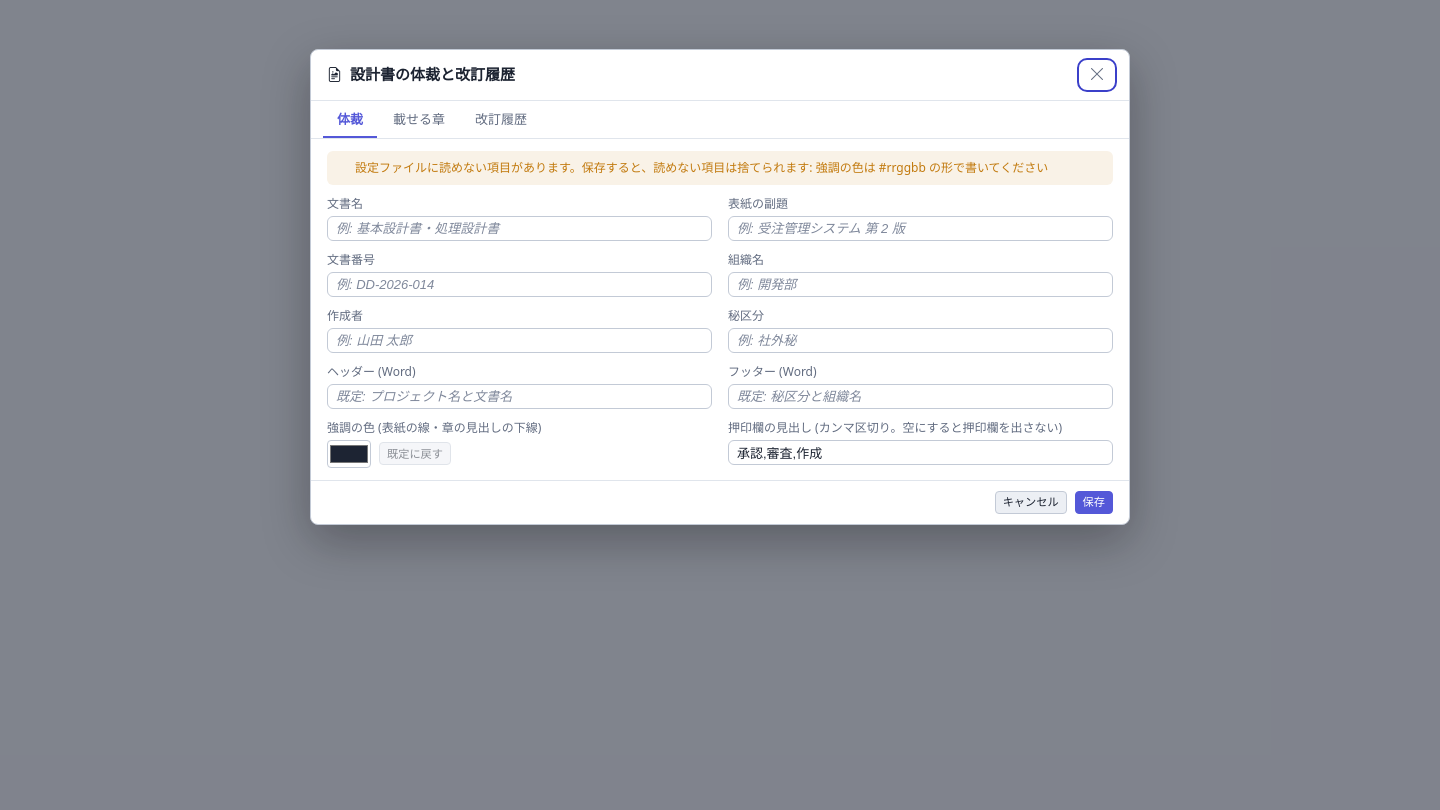
Test: 設計書の体裁と改訂履歴のダイアログ › 設定ファイルに読めない項目があれば知らせ、そのまま保存すると捨てることを承知した保存として送る。サーバが断ったら、理由を出す
Check: the message with test id "dt-problems" shows "強調の色は #rrggbb", box [816,159,1048,176]
Click the button with test id "dt-save": click(1094, 502) [1075,491,1113,514]
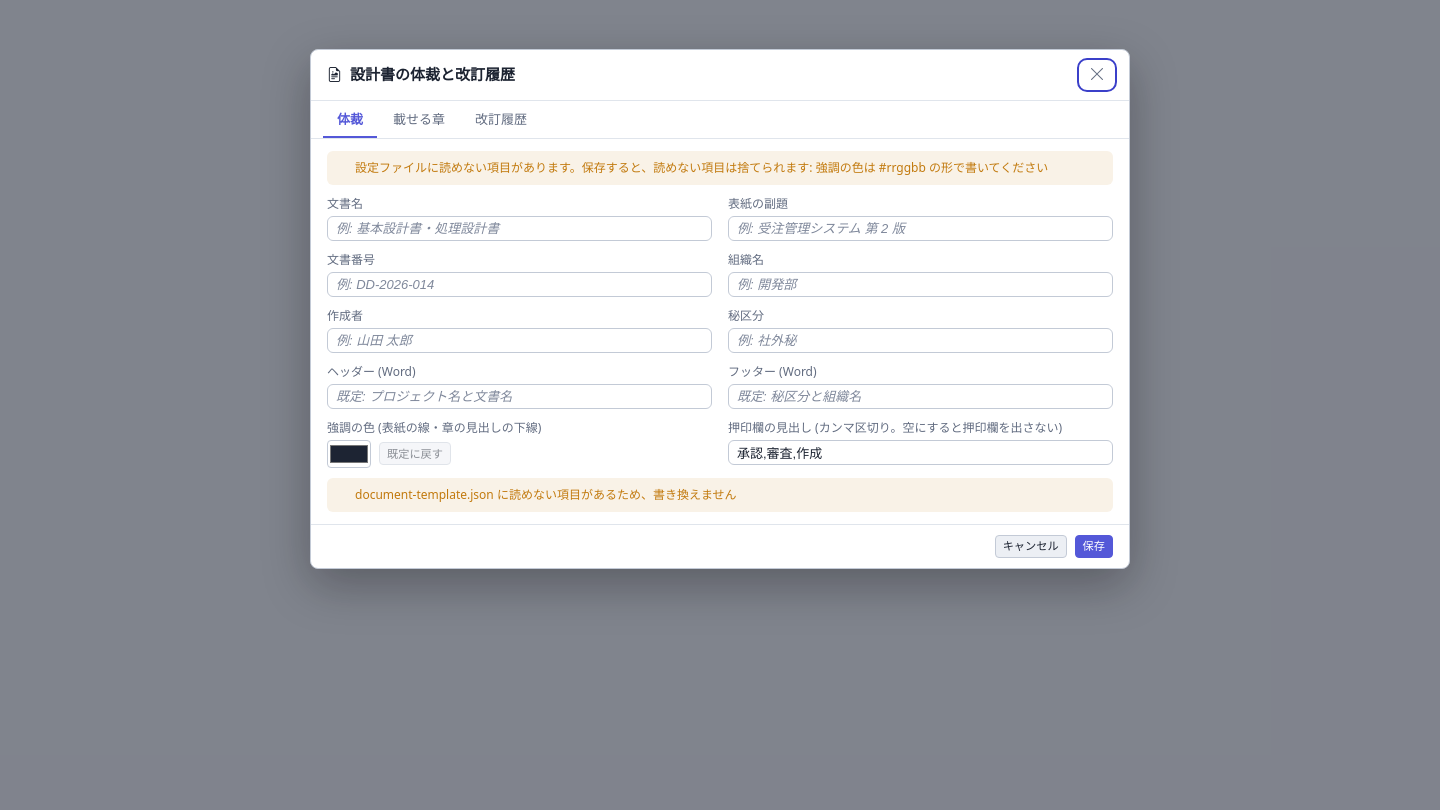
Check: the message with test id "dt-error" shows "書き換えません", box [355,486,736,503]
